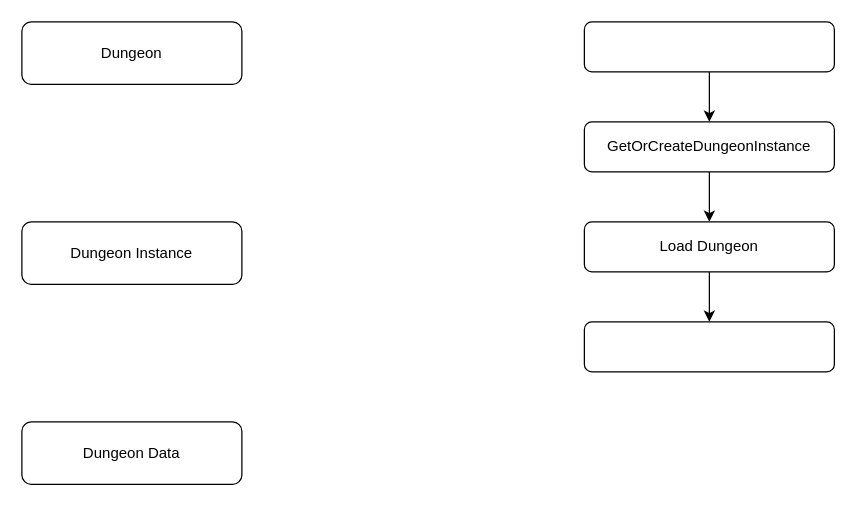
The diagram is 856 pixels wide and 506 high, and some of its shapes have lost their labels. The shapes that lost their labels are listed below. From the top down, each one's centre as x and y in pixels, then its label:
the point at 708,46: Player Load Dungeon
the point at 708,346: Setup Dungeon
